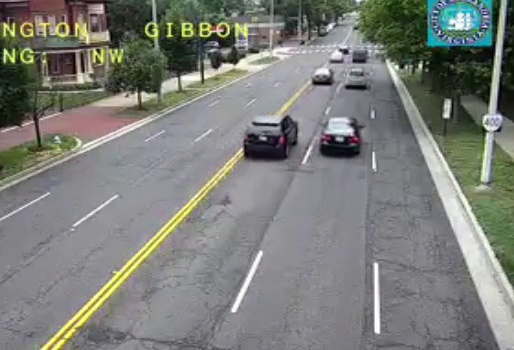car: (243, 115, 298, 154), (320, 117, 361, 154), (345, 68, 366, 87), (312, 68, 333, 84)
